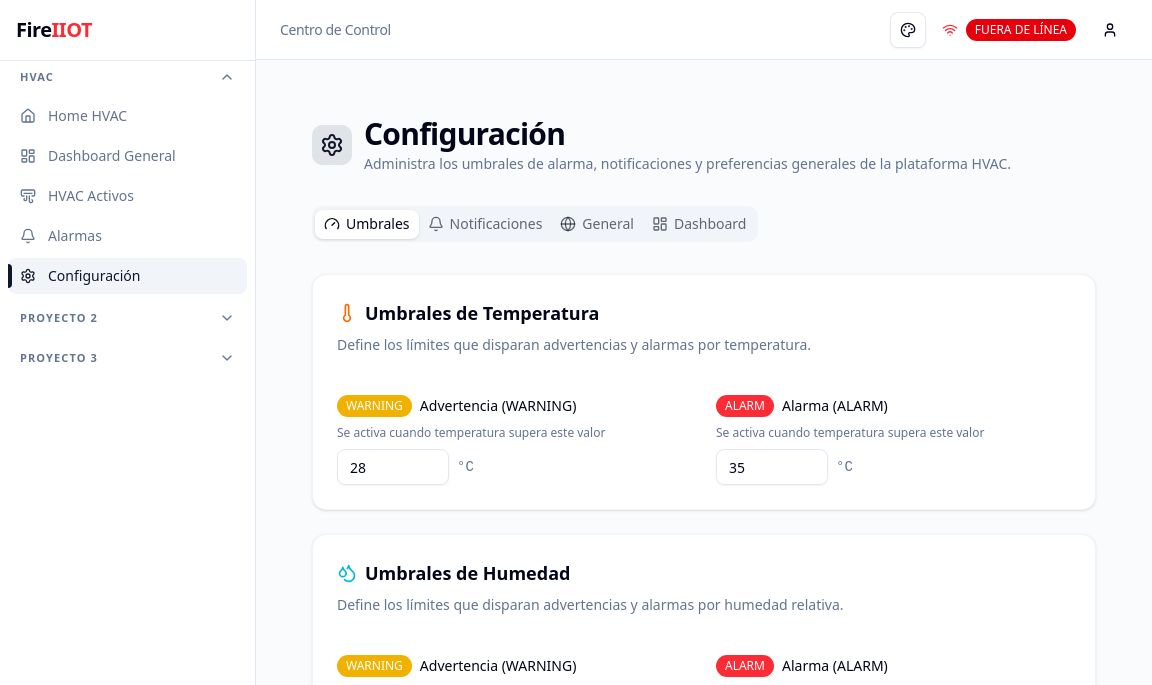
Settings - Threshold Changes › language switch to English updates visible text
Note: Navigate to General tab and wait for its content to appear
Click the tab "General" at [597, 225], box x1=551 y1=210 x2=643 y2=239
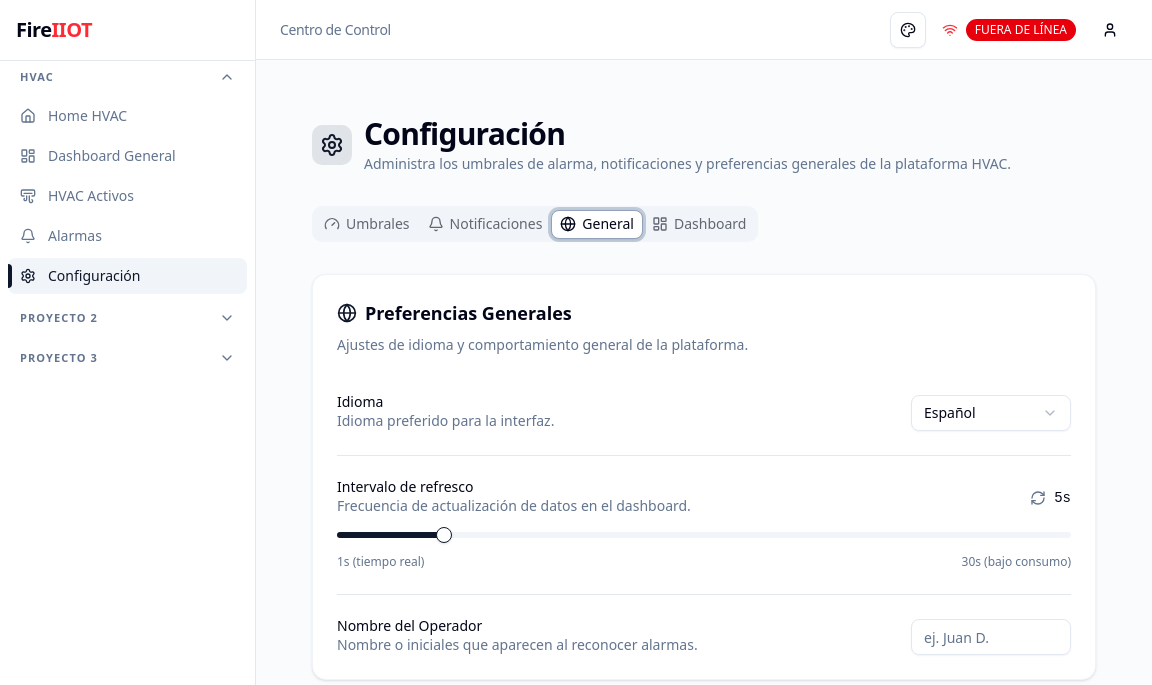
Now the text "Idioma" is shown, box x1=337 y1=392 x2=383 y2=411
Click the dropdown labelled "Español" at [991, 413], box x1=911 y1=395 x2=1071 y2=431
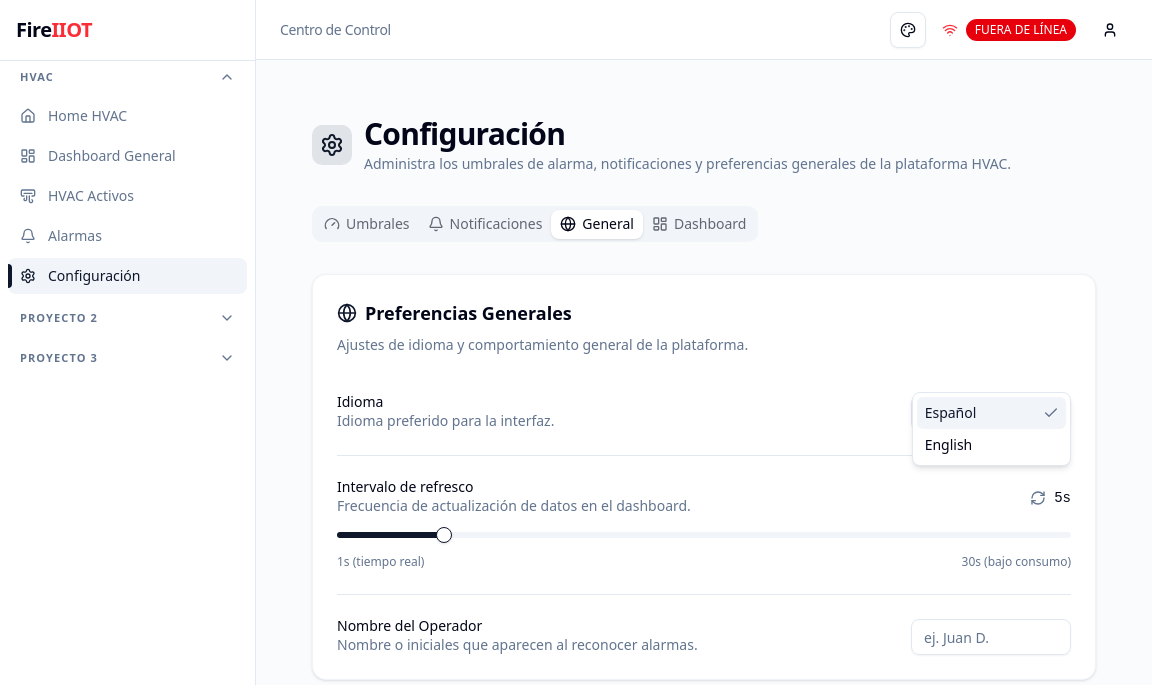
Click the option "English" at [949, 445], box x1=925 y1=435 x2=973 y2=454
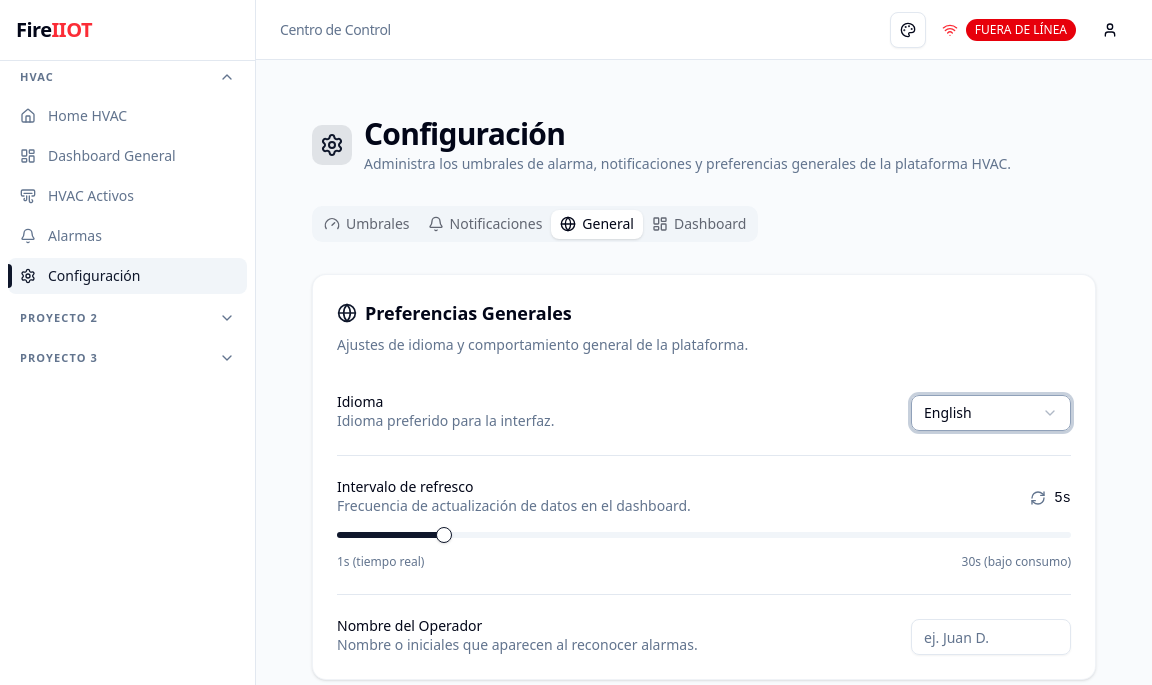
Scroll
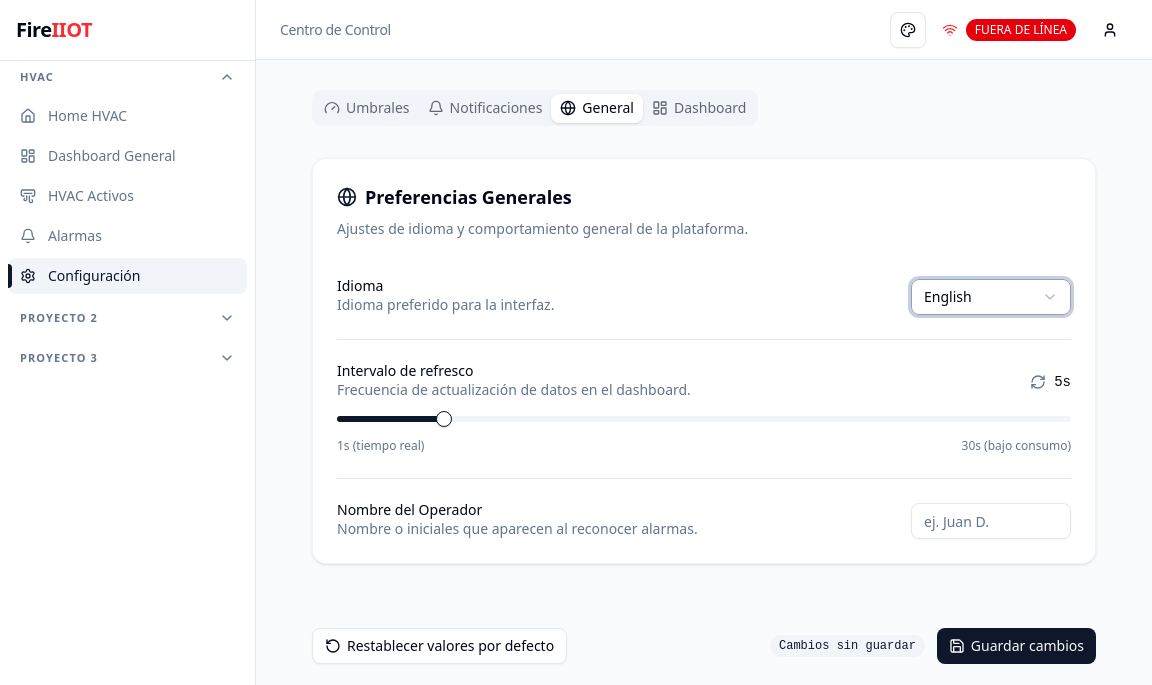
Click the button "Guardar cambios" at [1017, 646], box x1=937 y1=628 x2=1096 y2=664
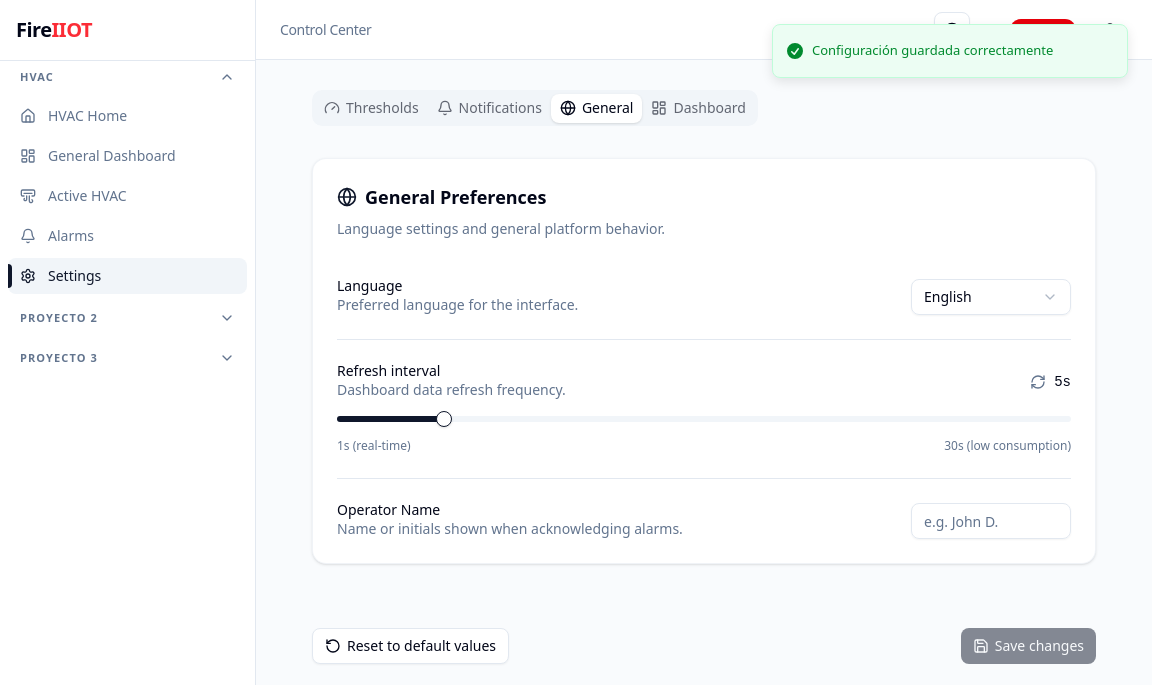
Open "/hvac/alarms"
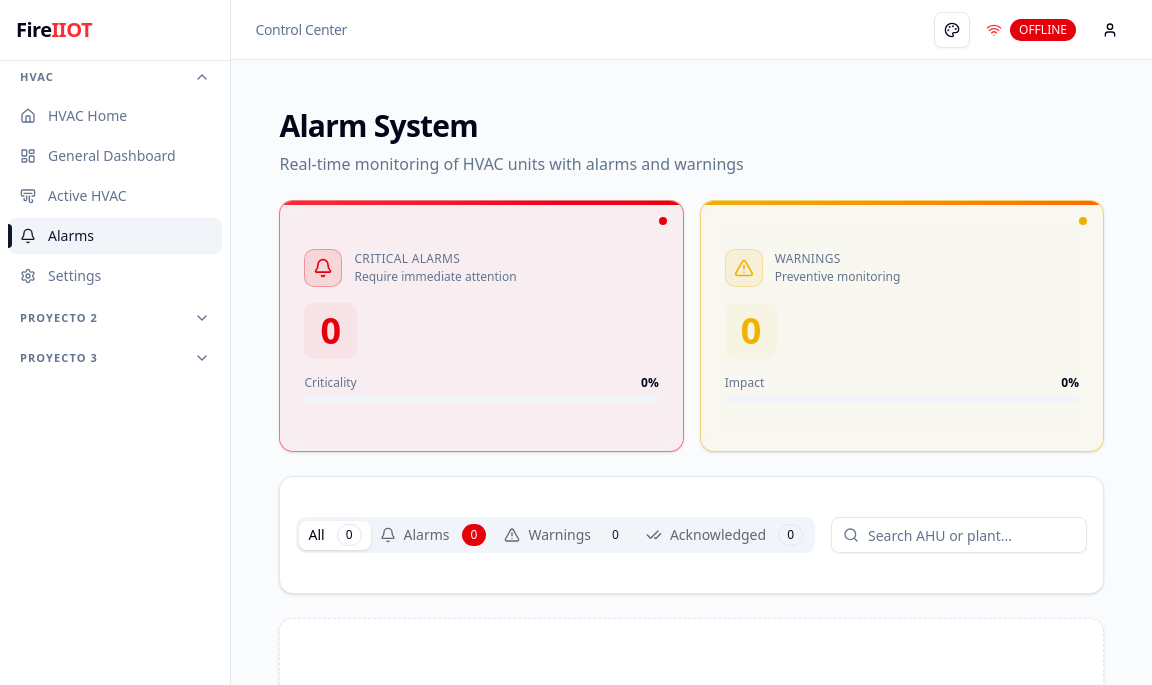
Now the heading "Alarm System" is shown, box x1=280 y1=105 x2=478 y2=146
